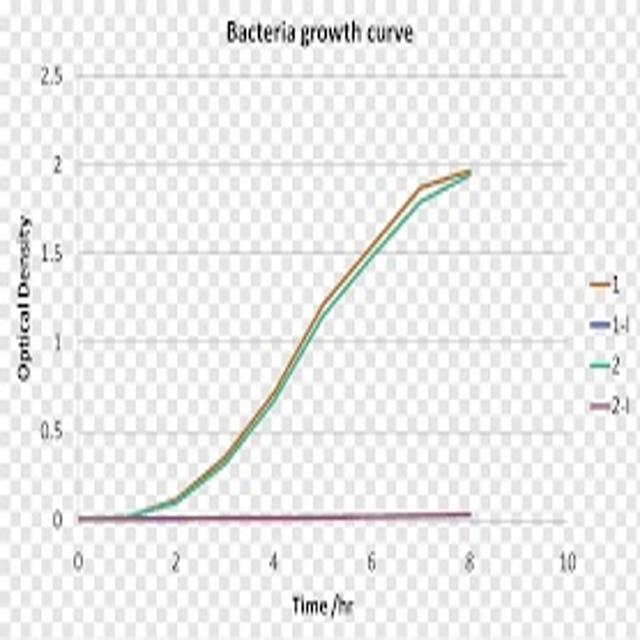axis: (68, 57, 88, 533), (68, 512, 580, 528)
line: (80, 166, 472, 521), (79, 170, 473, 521)
